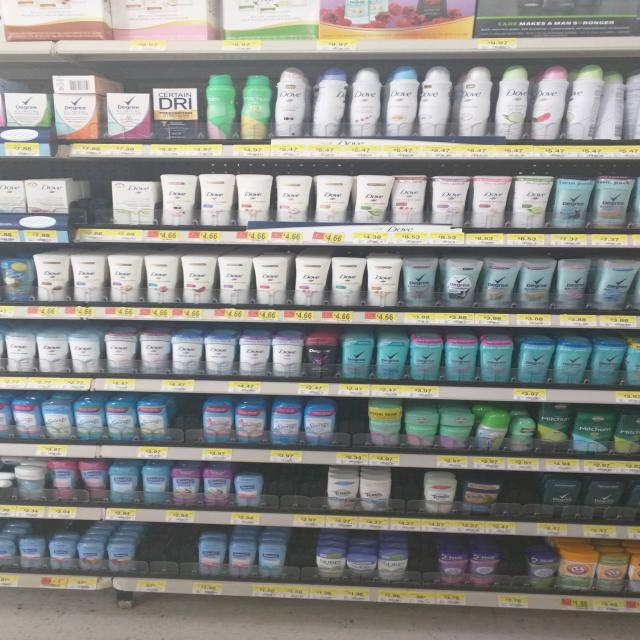void: (140, 532, 195, 594), (268, 468, 318, 526), (75, 173, 108, 244), (508, 476, 540, 536), (338, 398, 364, 466), (172, 400, 201, 460), (287, 537, 315, 598), (412, 542, 438, 605), (502, 541, 525, 606), (396, 473, 419, 529)
